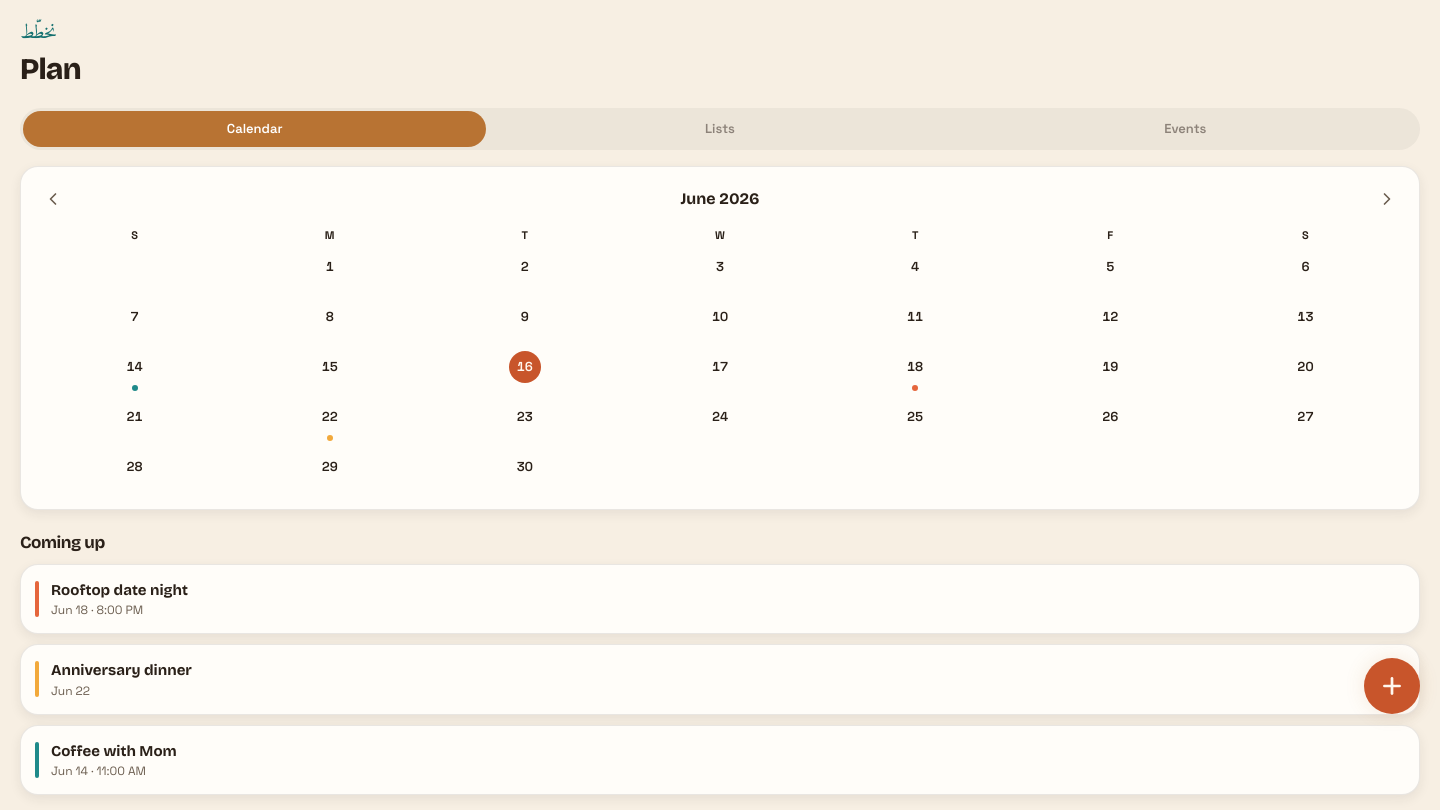
Test: Calendar tab page — month nav + day detail (PlanView redesign) › interaction › opens the day-detail sheet for the tapped day
Click the button named "Day 18, 1 event".
click(915, 371)  # box [818, 349, 1013, 393]
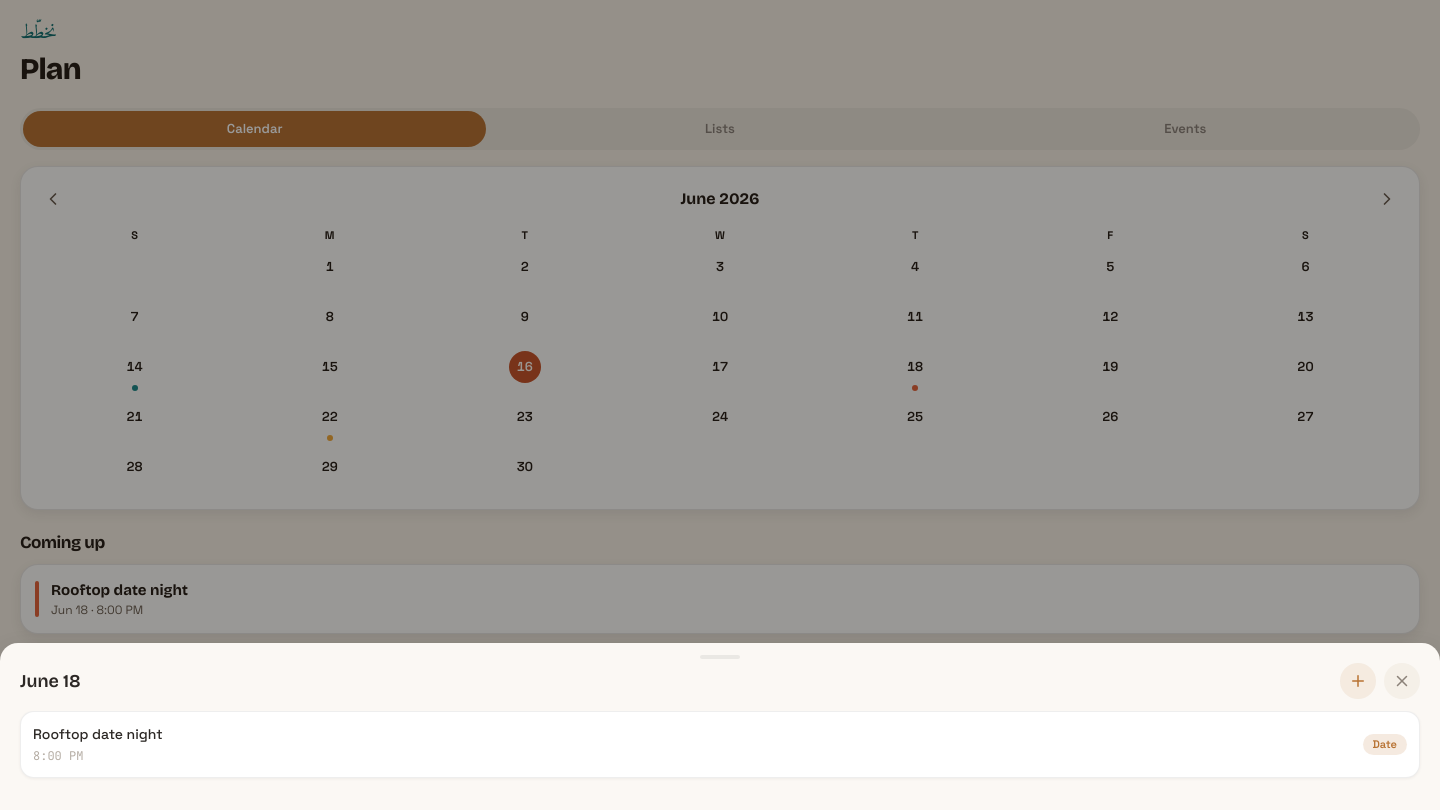
Now the element with test id "day-detail-sheet" is shown, box [0, 643, 1439, 809]
Now the text "Rooftop date night" is shown, box [33, 725, 163, 743]
